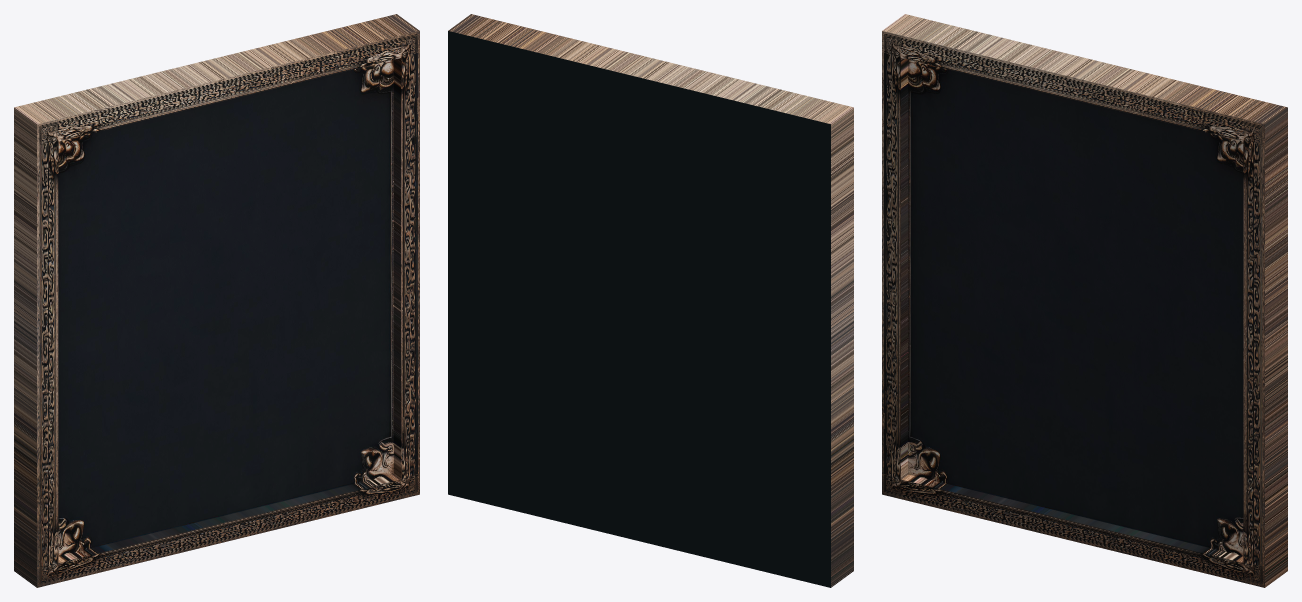
Rendered from panel_menu.glb.
3 renders of one model, left to right at view 1: azimuth 30°, elevation 25°; view 2: azimuth 150°, elevation 25°; view 3: azimuth 330°, elevation 25°, orthographic.
Visible parts, largest first — view 1: panel_menu; view 2: panel_menu; view 3: panel_menu.
Part boxes in pixels (<box>): panel_menu: <box>14,14,419,587</box>; panel_menu: <box>448,14,853,587</box>; panel_menu: <box>882,14,1287,587</box>.
Size of the model in its own units: 0.38 by 0.44 by 0.042.
1 material, 1 textured.
